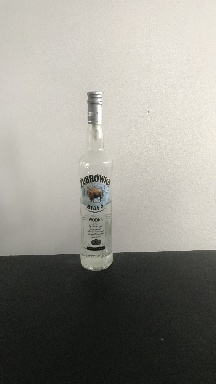butelka: (78, 87, 113, 274)
